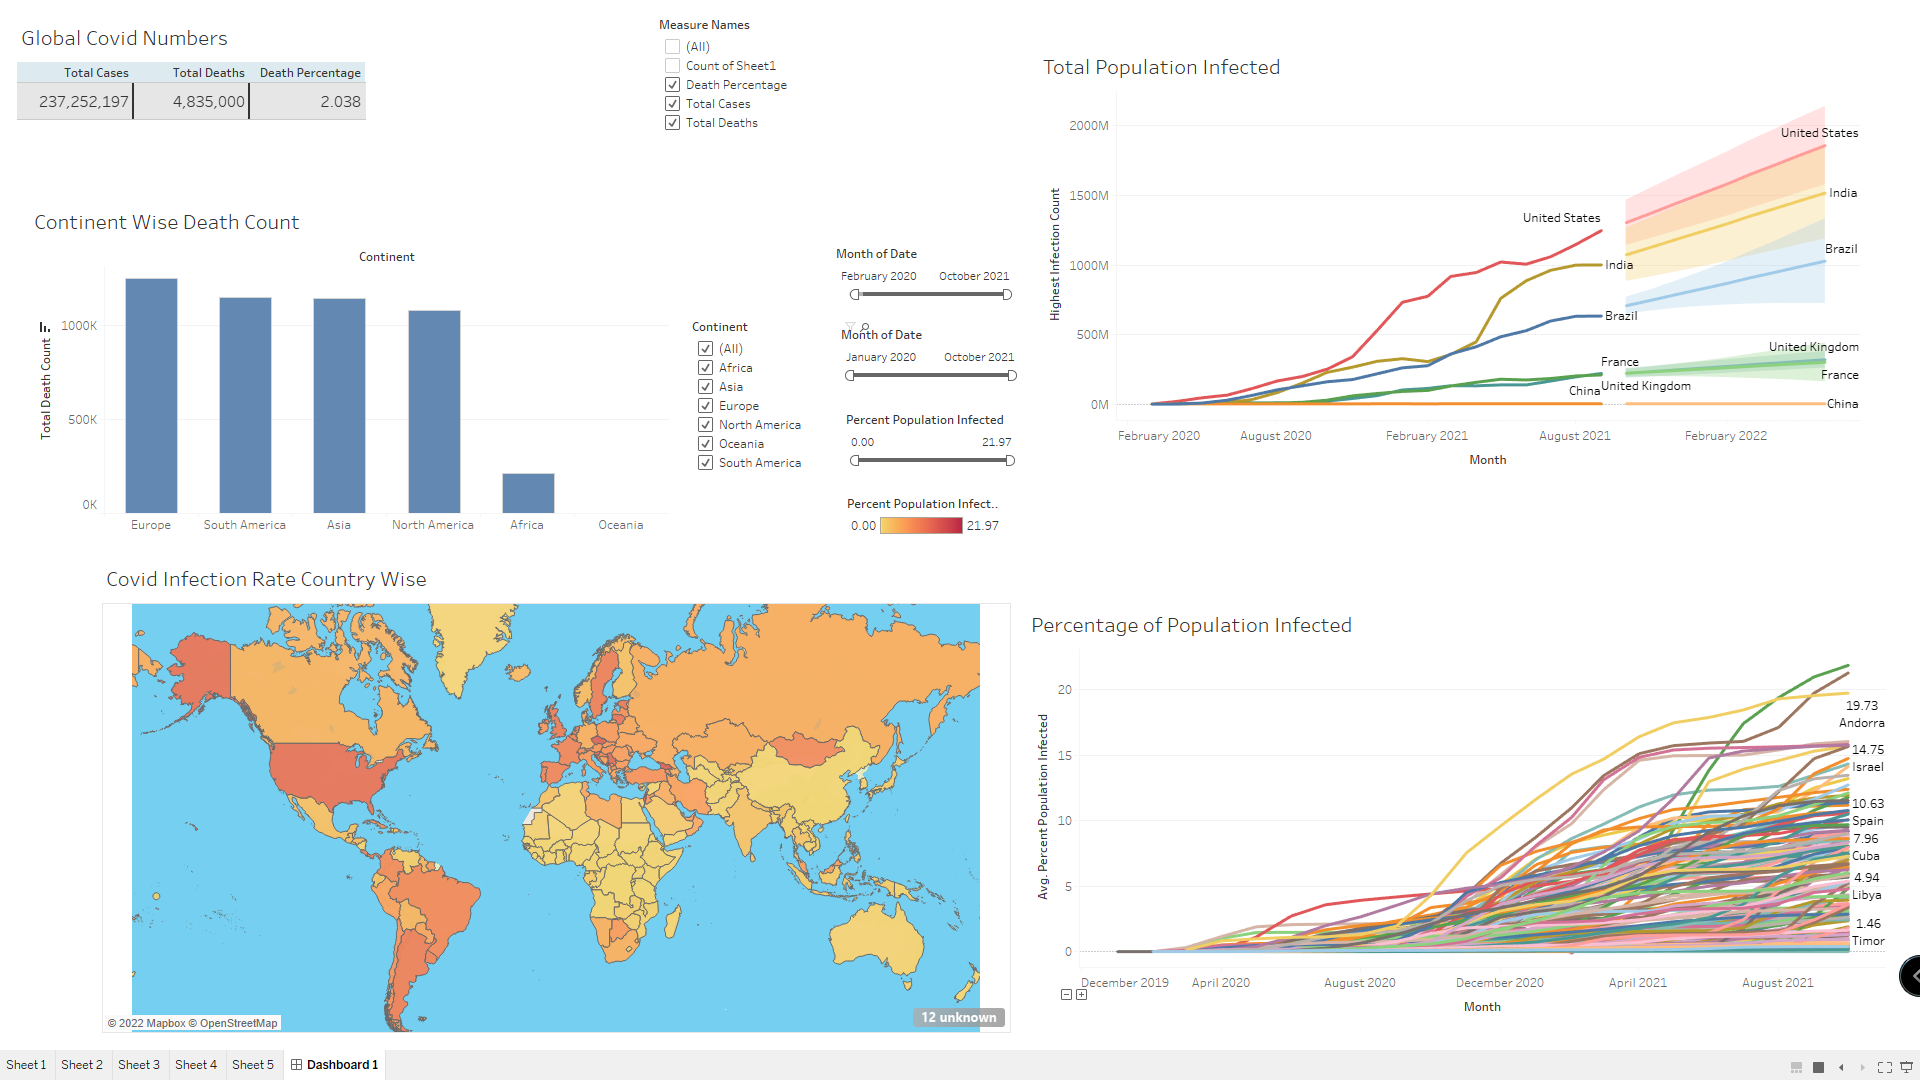

The page's visual inventory and layout, read from the dashboard file:
{"tool":"tableau","page":{"name":"Dashboard 1","canvas":[1000,1000],"units":"permille","ordinal":0},"visuals":[{"type":"filter","title":"Sheet 1","param":"[federated.1dhswj00hjvjpc1f897kl0zcesu5].[:Measure Names]","box":[343.5,15.5,93.6,133.8]},{"type":"worksheet","title":"Sheet 1","mark":"Automatic","box":[8.8,17.7,332.9,333]},{"type":"worksheet","title":"Sheet 4","mark":"Automatic","rows":["HighestInfectionCount"],"cols":["date"],"box":[541.2,45.4,427.7,407.1]},{"type":"worksheet","title":"Sheet 2","mark":"Automatic","rows":["TotalDeathCount"],"cols":["location"],"box":[15.8,193.6,332.9,333]},{"type":"filter","title":"Sheet 4","param":"[federated.0jp32gj10eviy71awdwjq01xdsk3].[tmn:date:qk]","box":[435.3,233.4,93.6,67.5]},{"type":"filter","title":"Sheet 2","param":"[federated.0iyag7x0w0umyy16myqzs16e3h7w].[none:location:nk]","box":[360.4,303.1,93.6,173.7]},{"type":"filter","title":"Sheet 5","param":"[federated.0jp32gj10eviy71awdwjq01xdsk3].[tmn:date:qk]","box":[438.3,310.8,93.6,67.5]},{"type":"filter","title":"Sheet 3","param":"[federated.1oy1wlq1wraut715wvlnx1x4m2c6].[sum:PercentPopulationInfected:qk]","box":[440.6,391.6,90.1,65.3]},{"type":"legend","title":"Sheet 3","param":"[federated.1oy1wlq1wraut715wvlnx1x4m2c6].[sum:PercentPopulationInfected:qk]","box":[441.2,471.2,81.9,84.1]},{"type":"worksheet","title":"Sheet 3","mark":"Automatic","box":[53.2,533.2,473.4,450.2]},{"type":"worksheet","title":"Sheet 5","mark":"Automatic","rows":["PercentPopulationInfected"],"cols":["date"],"box":[534.8,577.4,447.6,396]}]}

Visuals, with their boxes on the dashboard's canvas, which has no fixed pixel size, in thousandths of its width and height (x1, y1, x2, y2). These are canvas units, not pixel positions in the 1920x1080 screenshot, which may show the page scaled, cropped or inside an application window:
"Sheet 1" filter: l=344, t=16, r=437, b=149
"Sheet 1" worksheet: l=9, t=18, r=342, b=351
"Sheet 4" worksheet: l=541, t=45, r=969, b=452
"Sheet 2" worksheet: l=16, t=194, r=349, b=527
"Sheet 4" filter: l=435, t=233, r=529, b=301
"Sheet 2" filter: l=360, t=303, r=454, b=477
"Sheet 5" filter: l=438, t=311, r=532, b=378
"Sheet 3" filter: l=441, t=392, r=531, b=457
"Sheet 3" legend: l=441, t=471, r=523, b=555
"Sheet 3" worksheet: l=53, t=533, r=527, b=983
"Sheet 5" worksheet: l=535, t=577, r=982, b=973
